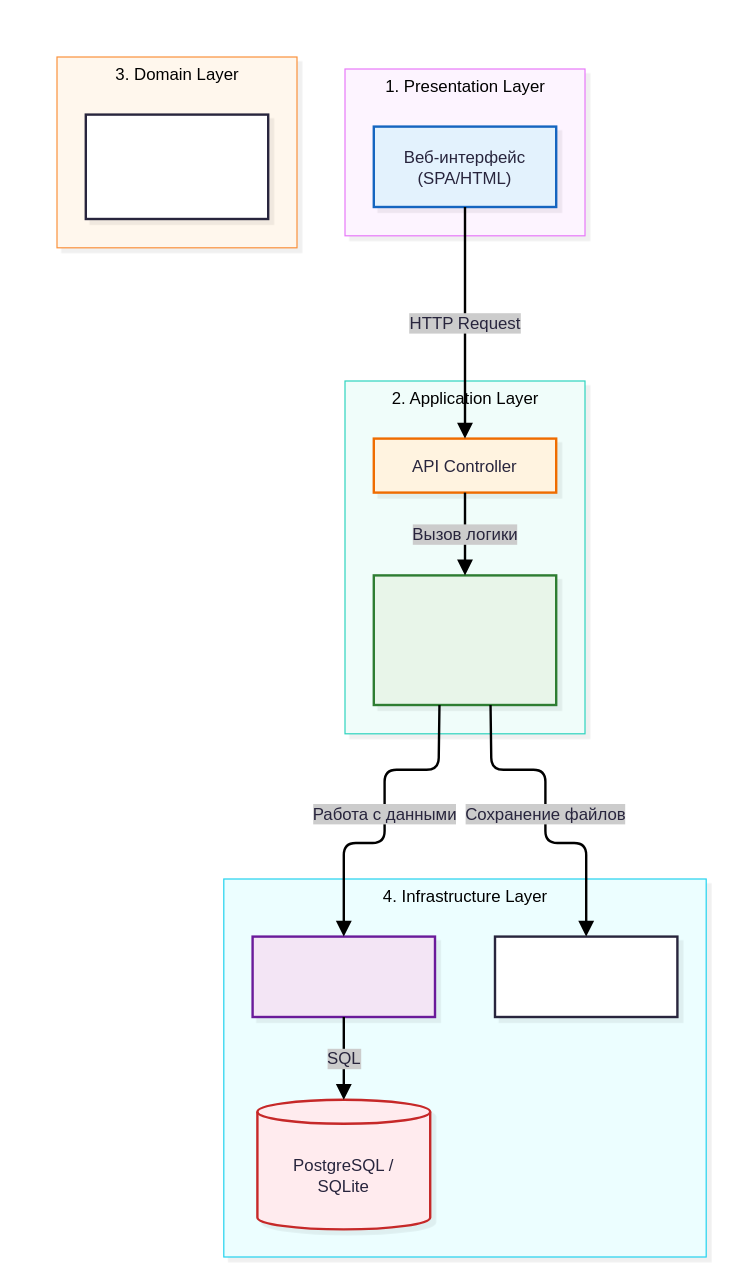
The diagram is 732 pixels wide and 1283 high, and some of its shapes have lost their labels. Here are the shapes that lost their labels. From the top down, the centre of each, then its label:
At (179,168): "Entities & DTO (User, Request, Comment)".
At (467,642): "Business Services (Назначение, Смена статуса)".
At (345,978): "Repositories (Data Access)".
At (588,978): "File Storage (Вложения)".
